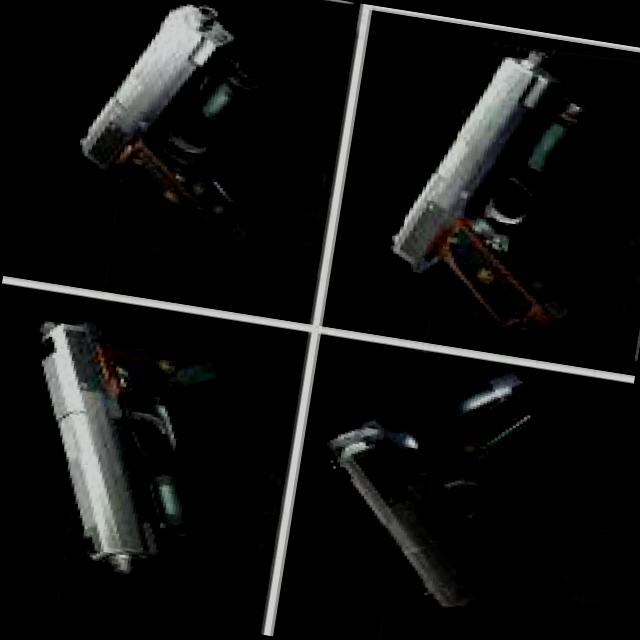handgun: (294, 348, 578, 628), (372, 32, 606, 353), (0, 300, 256, 593), (57, 0, 303, 276)
